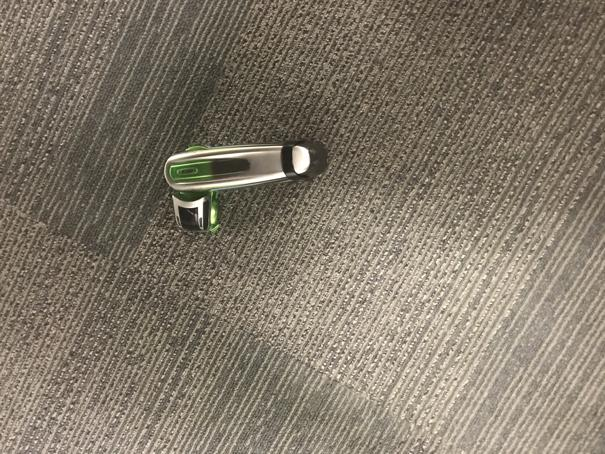Freewheel: (163, 140, 330, 235)
